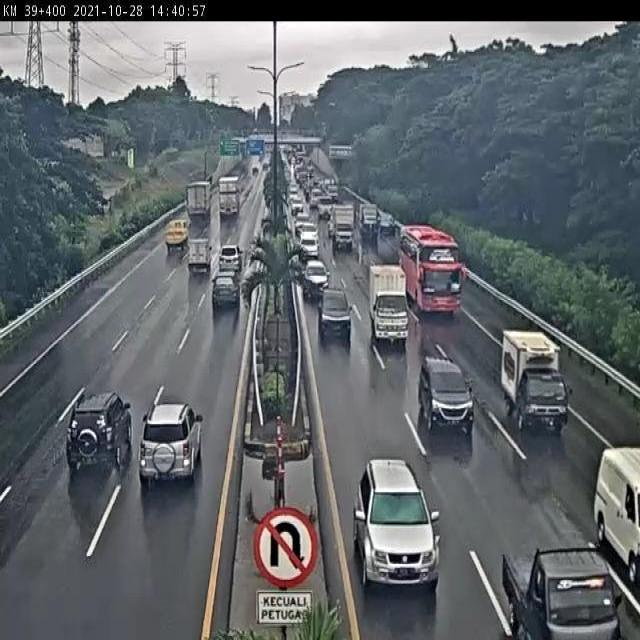car: (352, 459, 442, 592), (137, 402, 205, 490), (65, 391, 133, 473), (417, 357, 475, 432), (317, 287, 352, 336), (210, 269, 242, 312), (302, 258, 329, 298), (217, 241, 243, 272)
truck: (502, 334, 570, 438), (398, 226, 464, 318), (366, 266, 411, 346), (185, 236, 213, 273)
